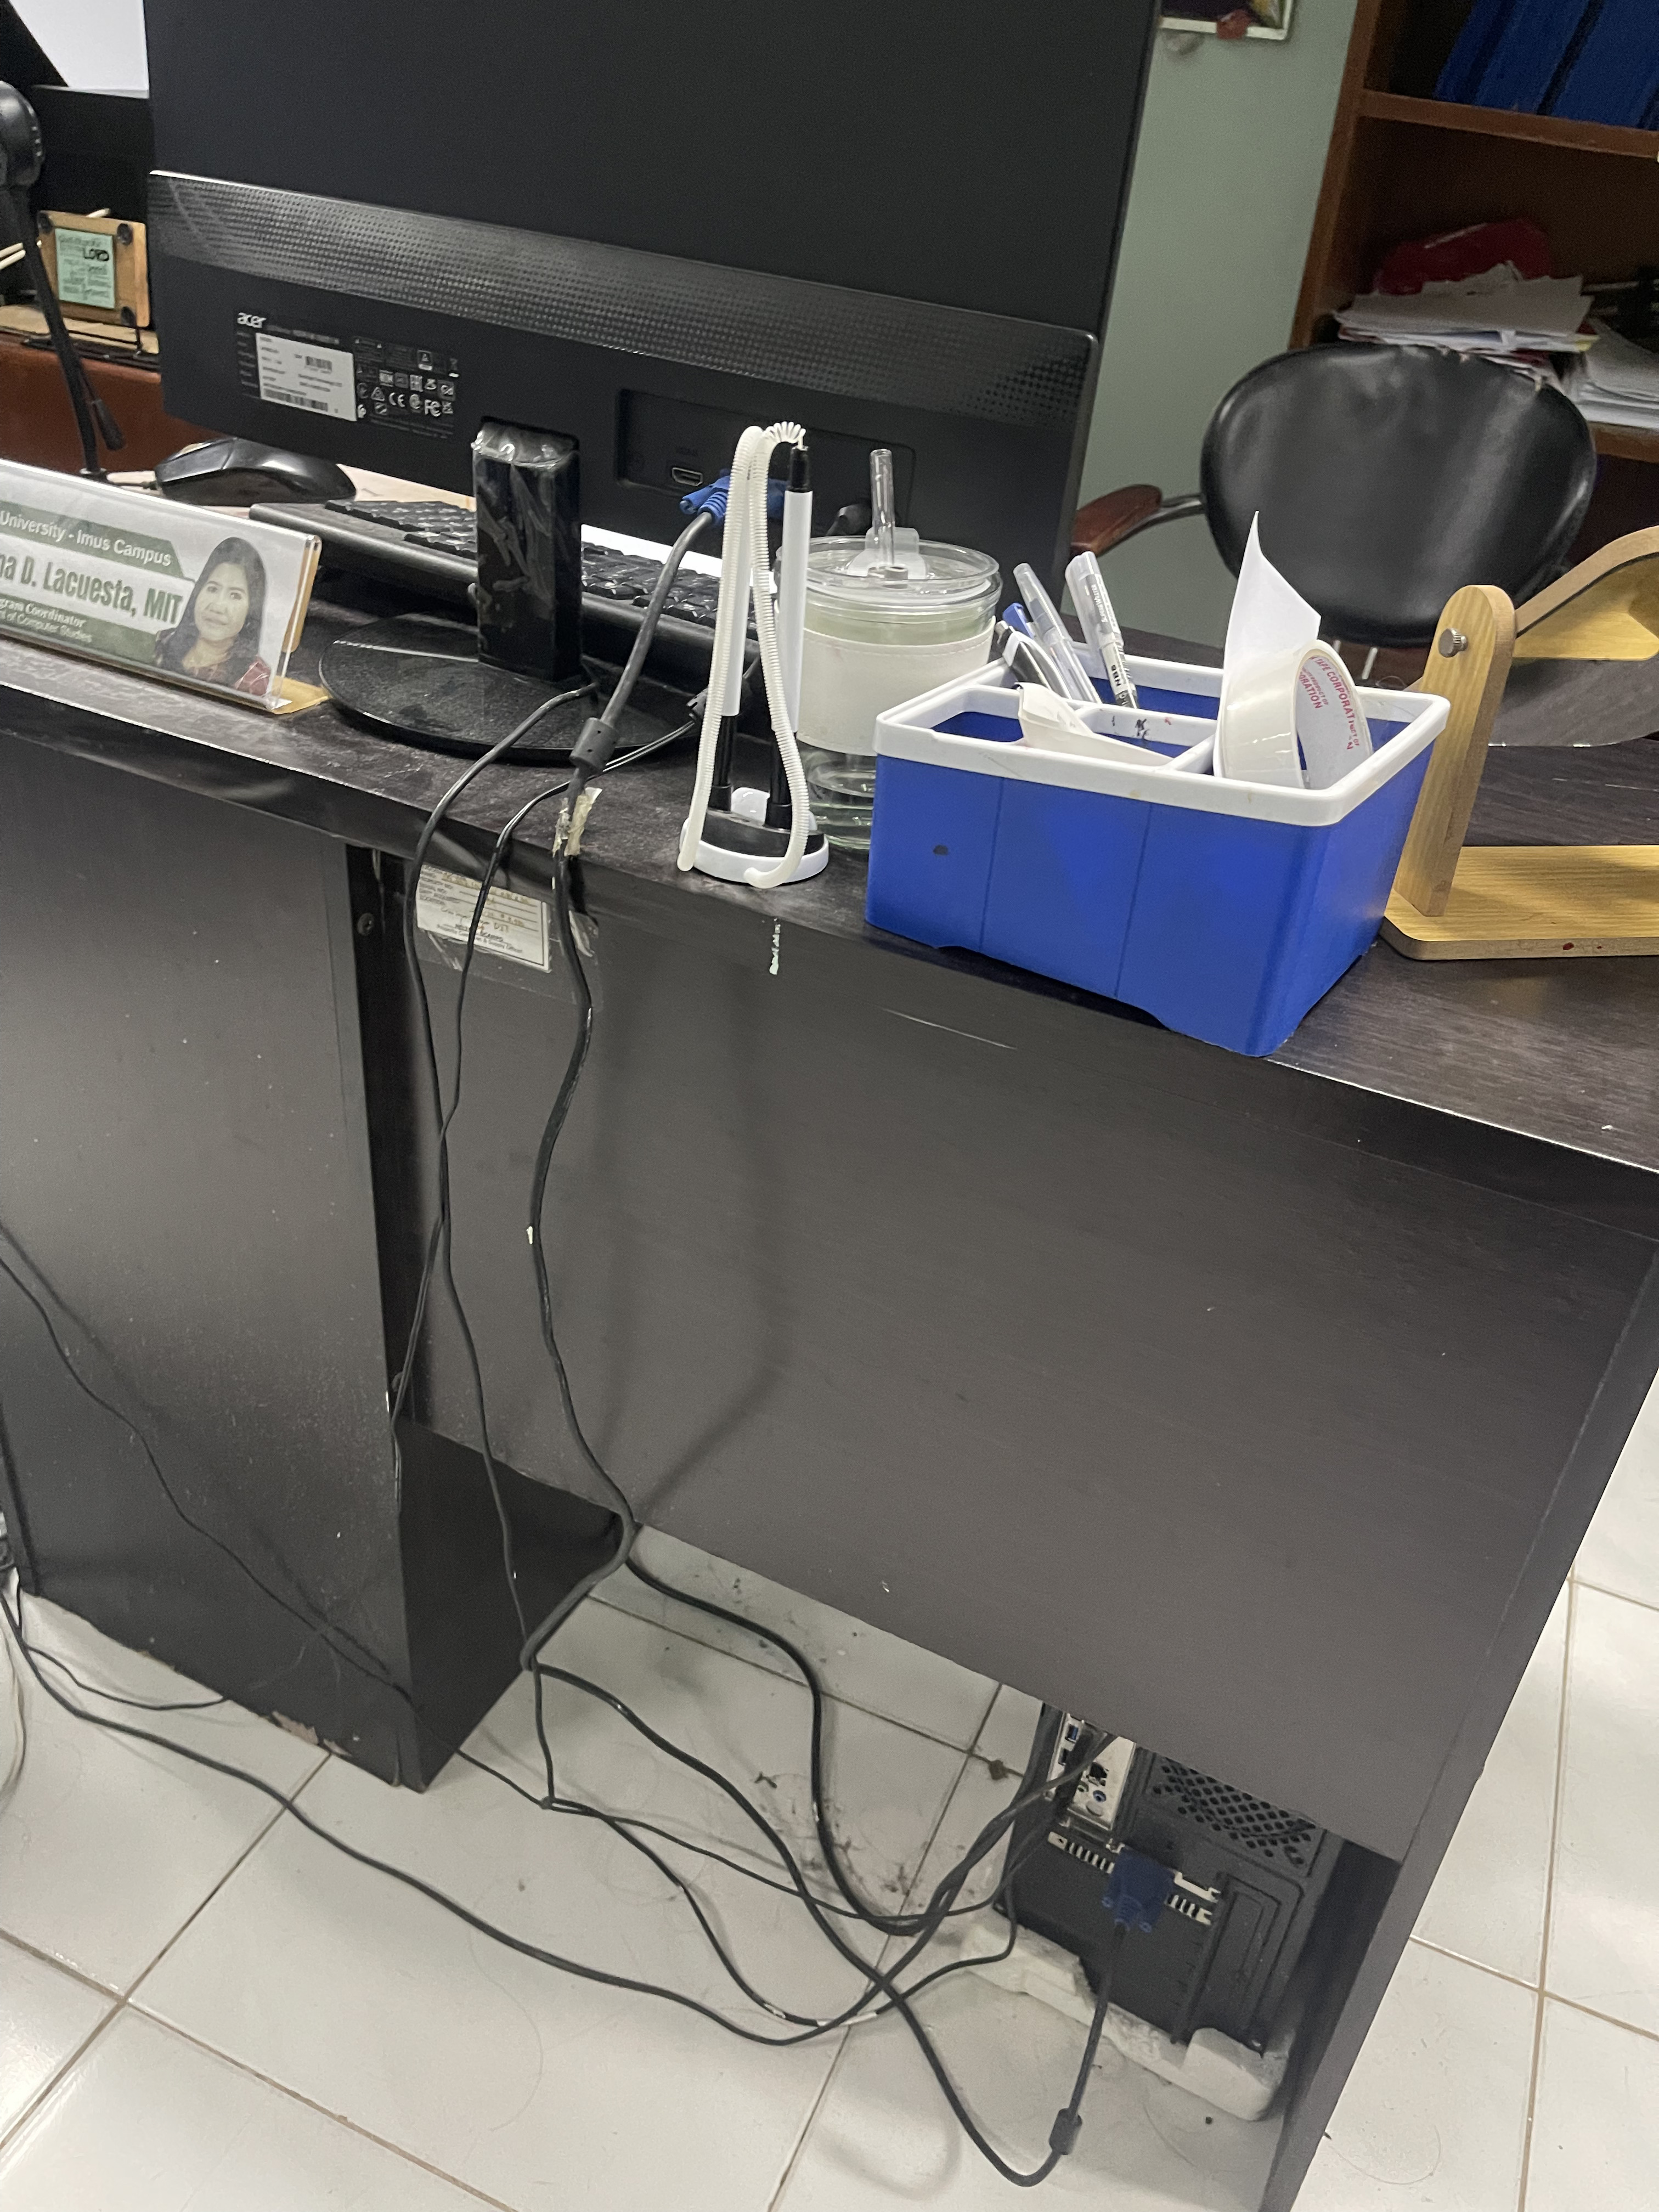table1: (5, 632, 1659, 2212)
